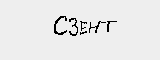Е: (77, 18, 91, 41)
З: (68, 15, 81, 38)
Н: (86, 19, 103, 38)
С: (52, 14, 69, 37)
Т: (100, 19, 117, 34)
